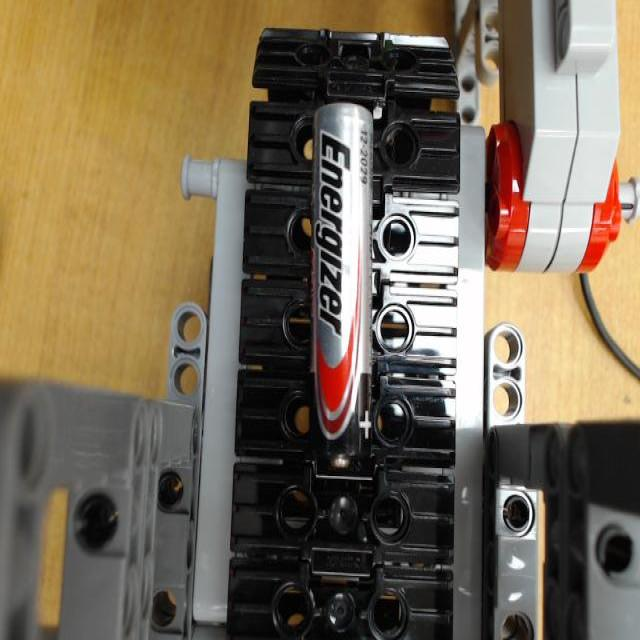AAA: (312, 95, 373, 462)
